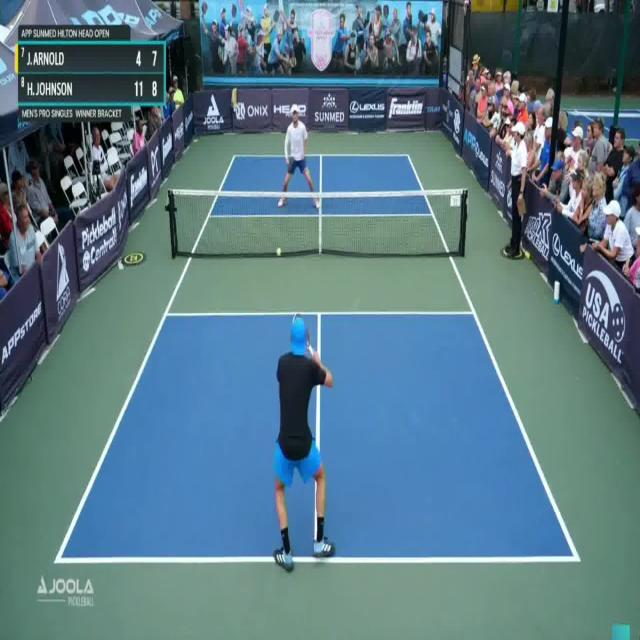ball: (276, 246, 282, 258)
